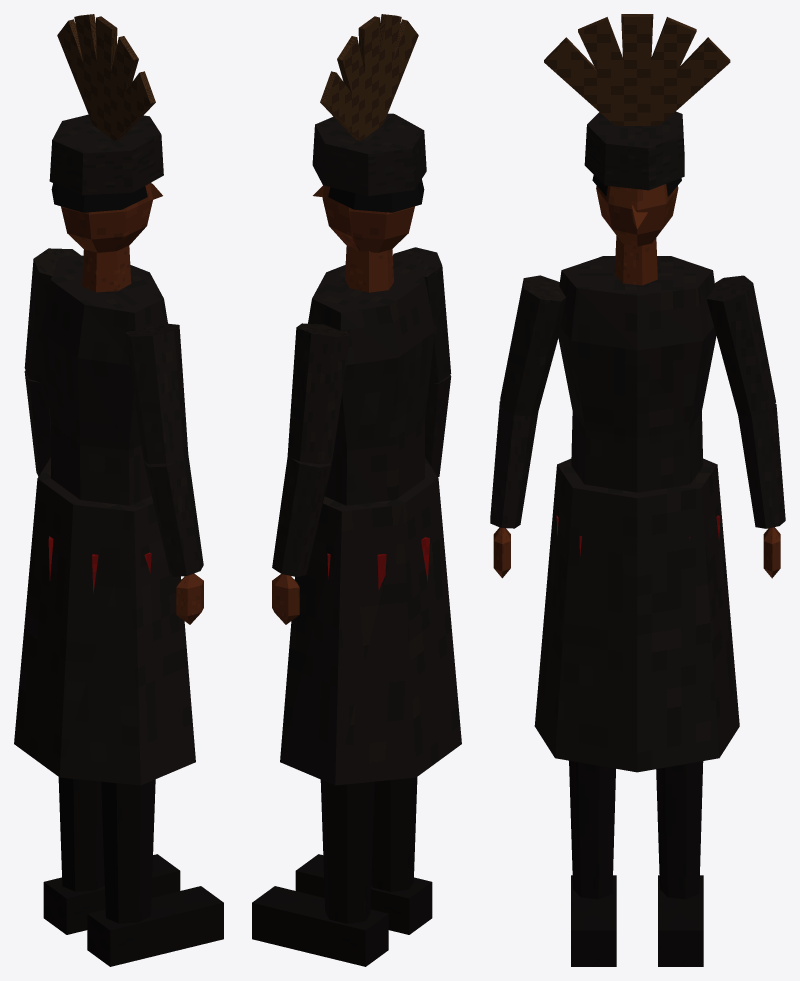
The model's file is chaman.glb.
The picture shows the model from 3 angles, left to right: view 1: azimuth 30°, elevation 25°; view 2: azimuth 150°, elevation 25°; view 3: azimuth 270°, elevation 25°; orthographic projection.
Parts seen in each view (by area): view 1: faldon, torso, plumas, gorro, pierna_der, brazo_der, pie_der, pierna_izq, antebrazo_der, pie_izq, cabeza, brazo_izq (+4 smaller); view 2: faldon, torso, plumas, gorro, brazo_izq, pierna_izq, pie_izq, pierna_der, antebrazo_izq, pie_der, cabeza, brazo_der (+5 smaller); view 3: faldon, torso, plumas, gorro, brazo_izq, brazo_der, pierna_der, pierna_izq, antebrazo_izq, antebrazo_der, cabeza, pie_izq (+4 smaller).
Part boxes in pixels (x1,y1,x2,y2): faldon: (14,457,195,785); torso: (41,255,167,505); plumas: (57,14,155,140); gorro: (49,114,163,195); pierna_der: (101,779,155,923); brazo_der: (125,323,188,464); pie_der: (87,886,223,966); pierna_izq: (58,777,104,891); antebrazo_der: (144,454,203,576); pie_izq: (43,854,180,934); cabeza: (61,182,162,252); brazo_izq: (24,248,80,384); faldon: (280,457,461,785); torso: (308,255,434,505); plumas: (320,14,418,140); gorro: (312,113,426,196); brazo_izq: (287,323,350,464); pierna_izq: (320,779,374,923); pie_izq: (252,886,388,966); pierna_der: (371,777,417,891); antebrazo_izq: (272,456,331,576); pie_der: (295,854,432,934); cabeza: (313,185,414,252); brazo_der: (393,247,451,383); faldon: (534,458,739,772); torso: (558,256,716,492); plumas: (544,14,730,125); gorro: (584,111,684,190); brazo_izq: (707,275,775,416); brazo_der: (500,275,565,416); pierna_der: (569,760,615,899); pierna_izq: (656,761,703,899); antebrazo_izq: (738,403,785,528); antebrazo_der: (490,401,538,528); cabeza: (596,184,678,246); pie_izq: (658,875,703,966).
Size of the model in its own units: 0.3 by 1.7 by 0.5.
1 material, 1 textured.
